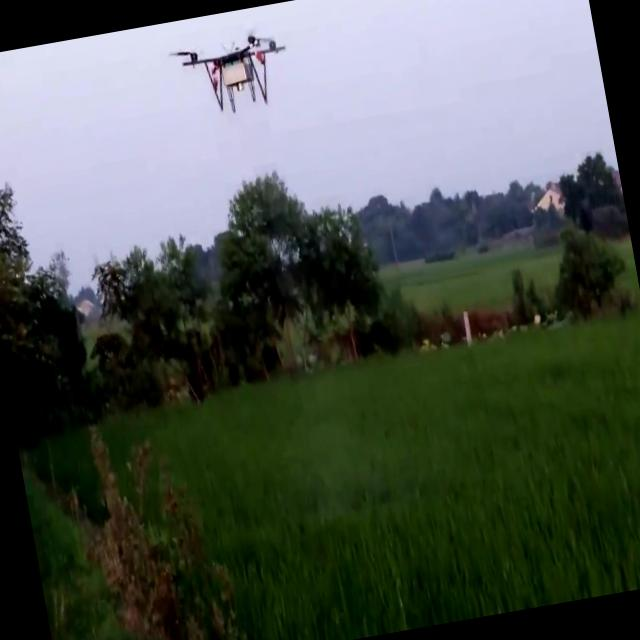drone: (167, 25, 296, 124)
